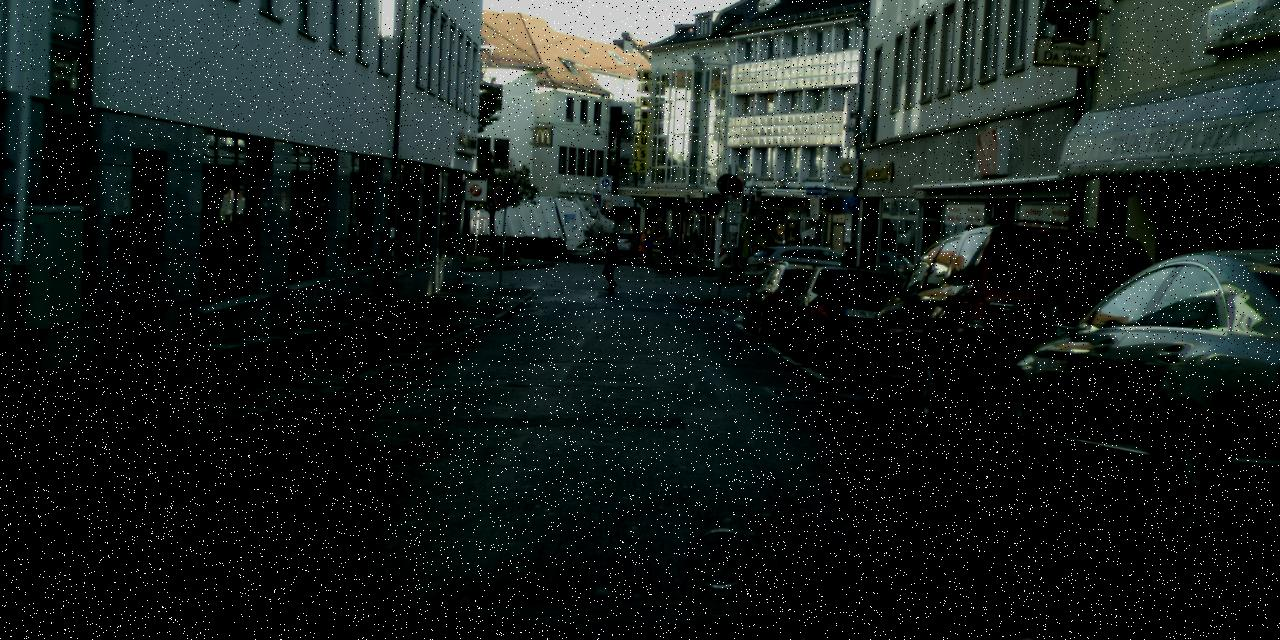ped: (599, 232, 622, 289), (838, 240, 858, 289), (658, 229, 673, 269), (636, 228, 650, 261), (730, 233, 744, 265), (764, 233, 778, 265), (798, 236, 811, 268), (643, 229, 655, 261), (688, 231, 700, 262)
